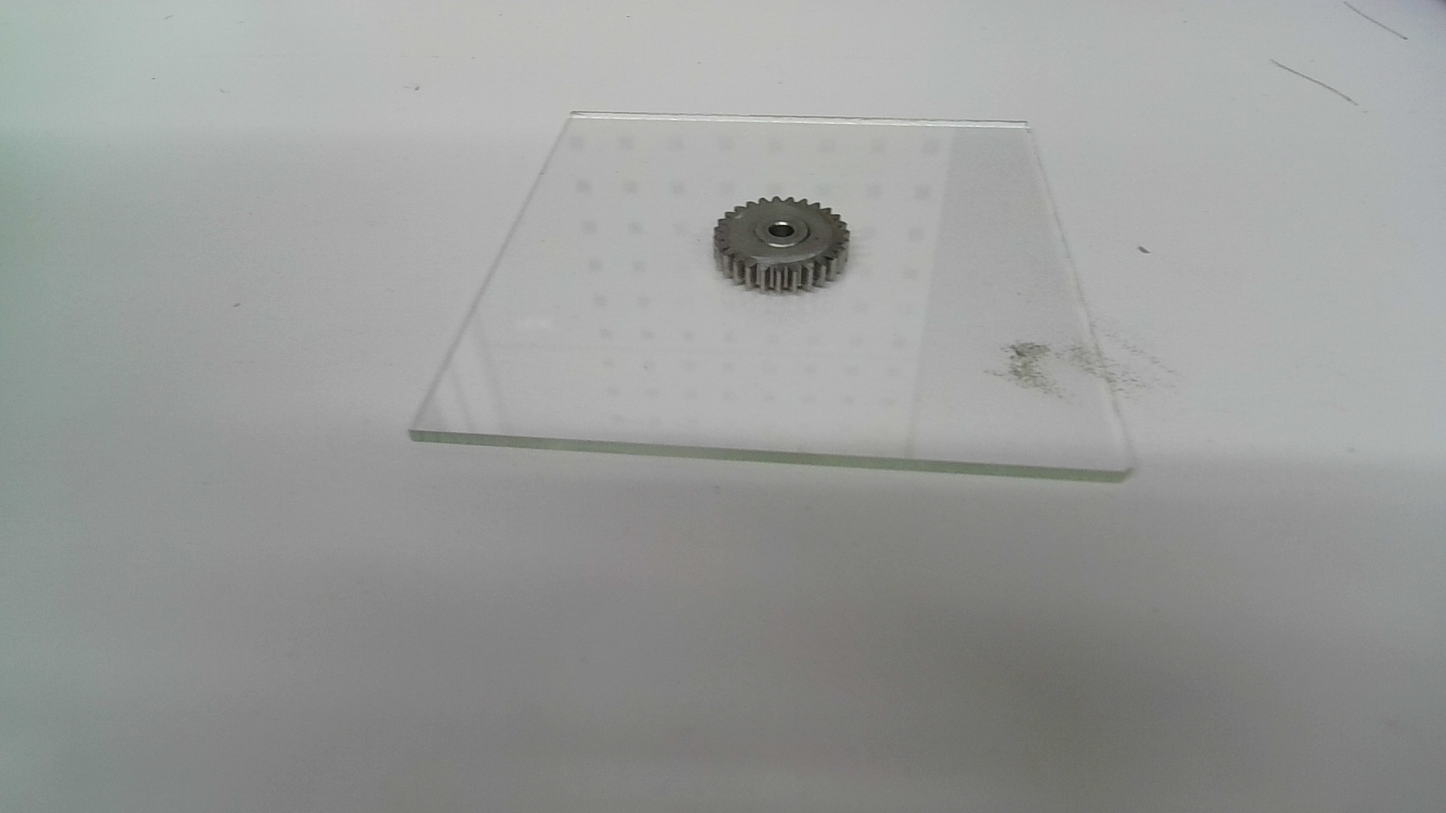gear: (711, 194, 853, 296)
